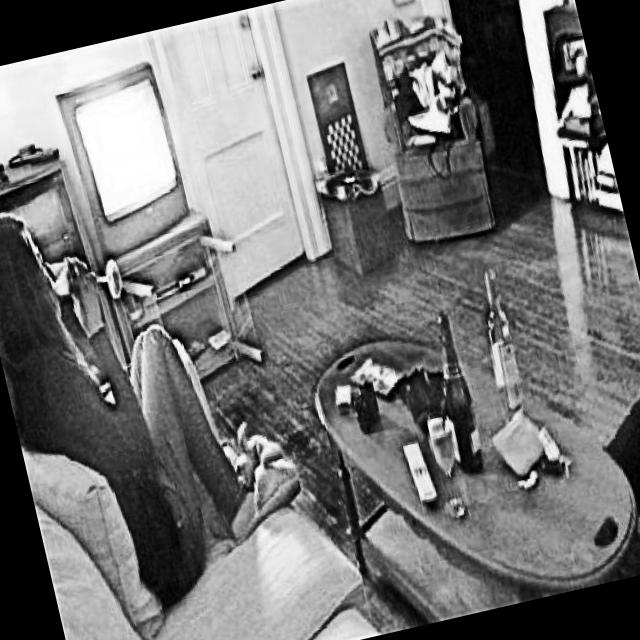Person: (0, 162, 323, 631)
